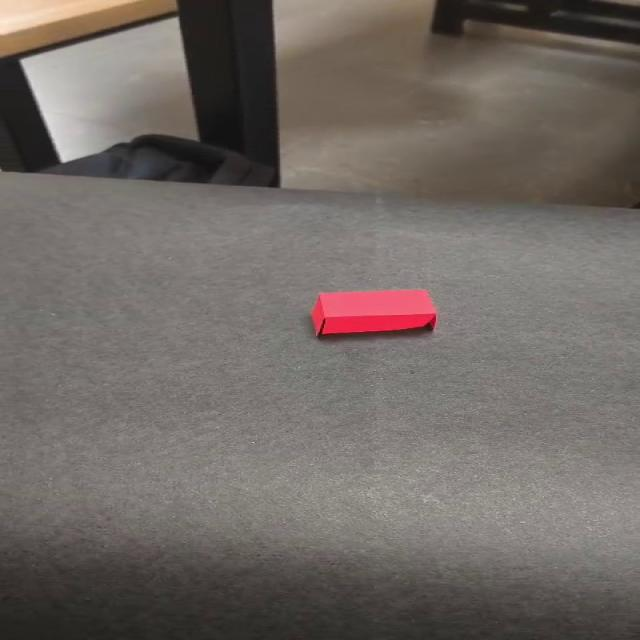red block: (310, 288, 438, 336)
